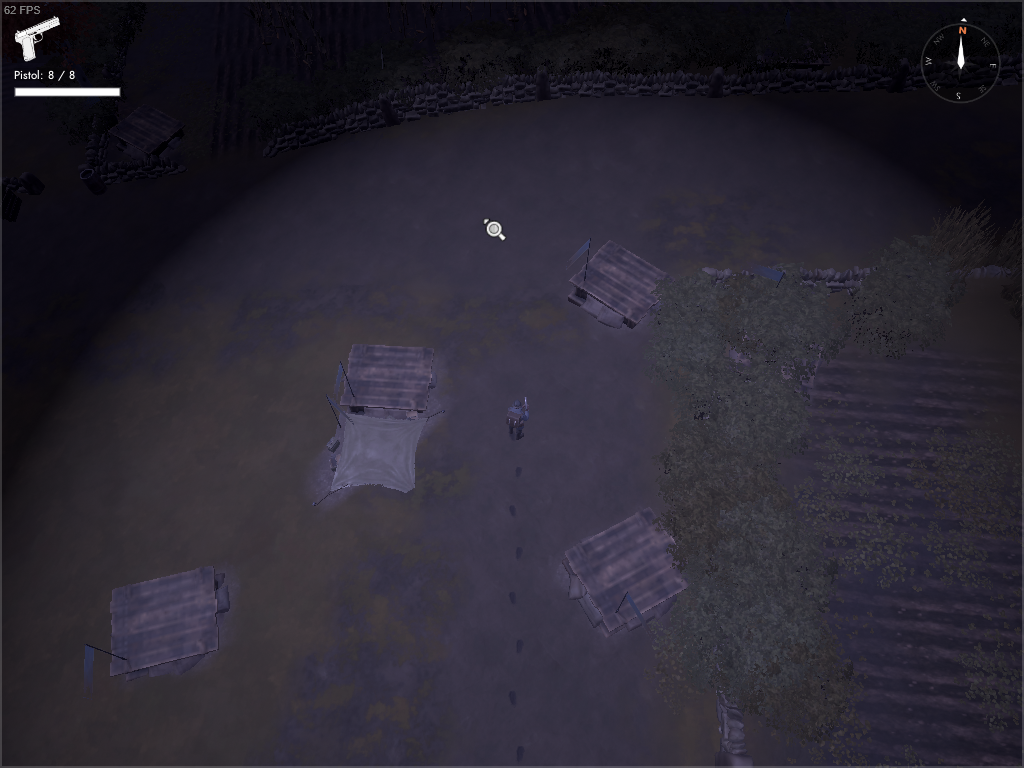foxhole: (303, 389, 454, 515)
pillbox: (76, 556, 240, 698), (551, 494, 706, 640), (716, 261, 832, 398), (560, 230, 673, 332), (331, 332, 444, 424), (96, 94, 199, 170)
player: (500, 395, 533, 445)
